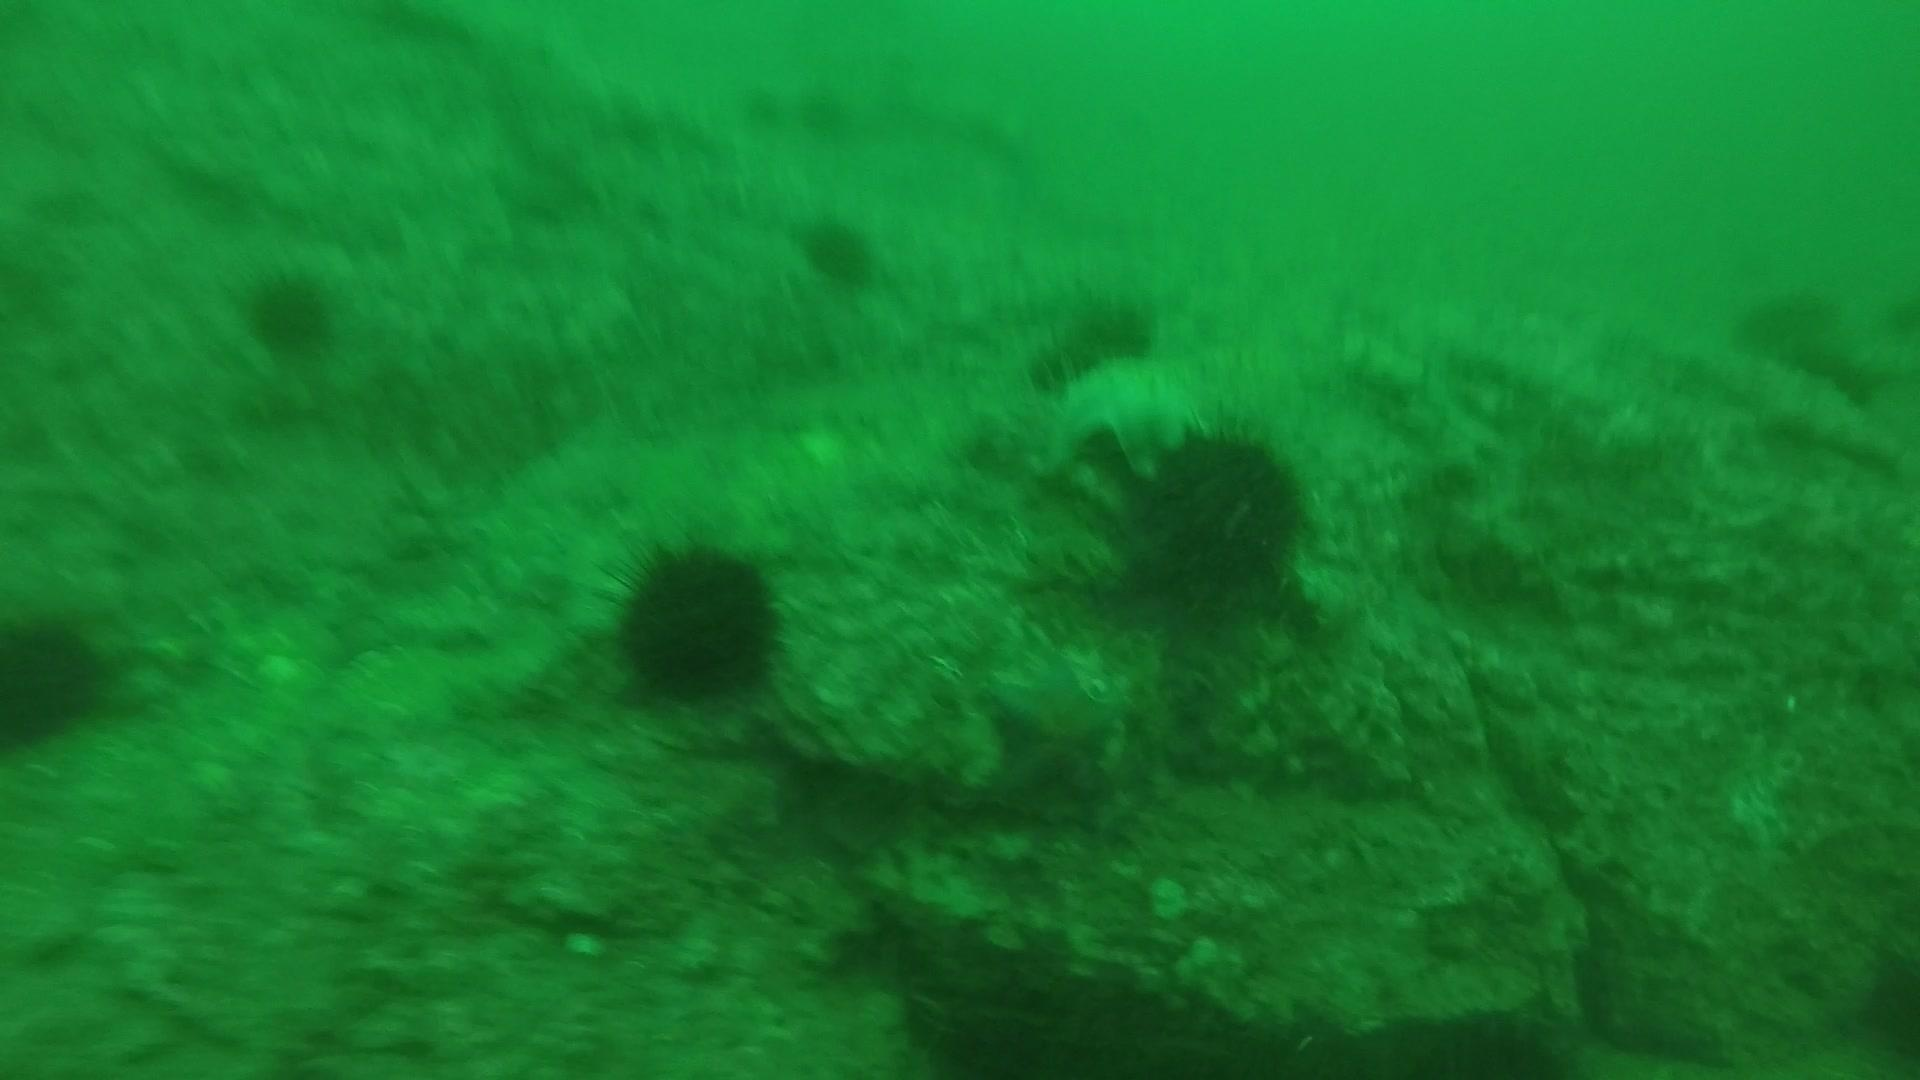echinus: (1095, 410, 1319, 617), (597, 530, 793, 712), (1, 605, 116, 757), (1025, 287, 1160, 396), (239, 264, 342, 361), (794, 208, 882, 291), (709, 73, 774, 138), (793, 79, 857, 144)
starfish: (978, 640, 1133, 806), (1047, 352, 1216, 468)
